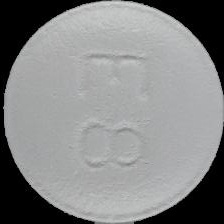50436-5538: (0, 0, 224, 224)
